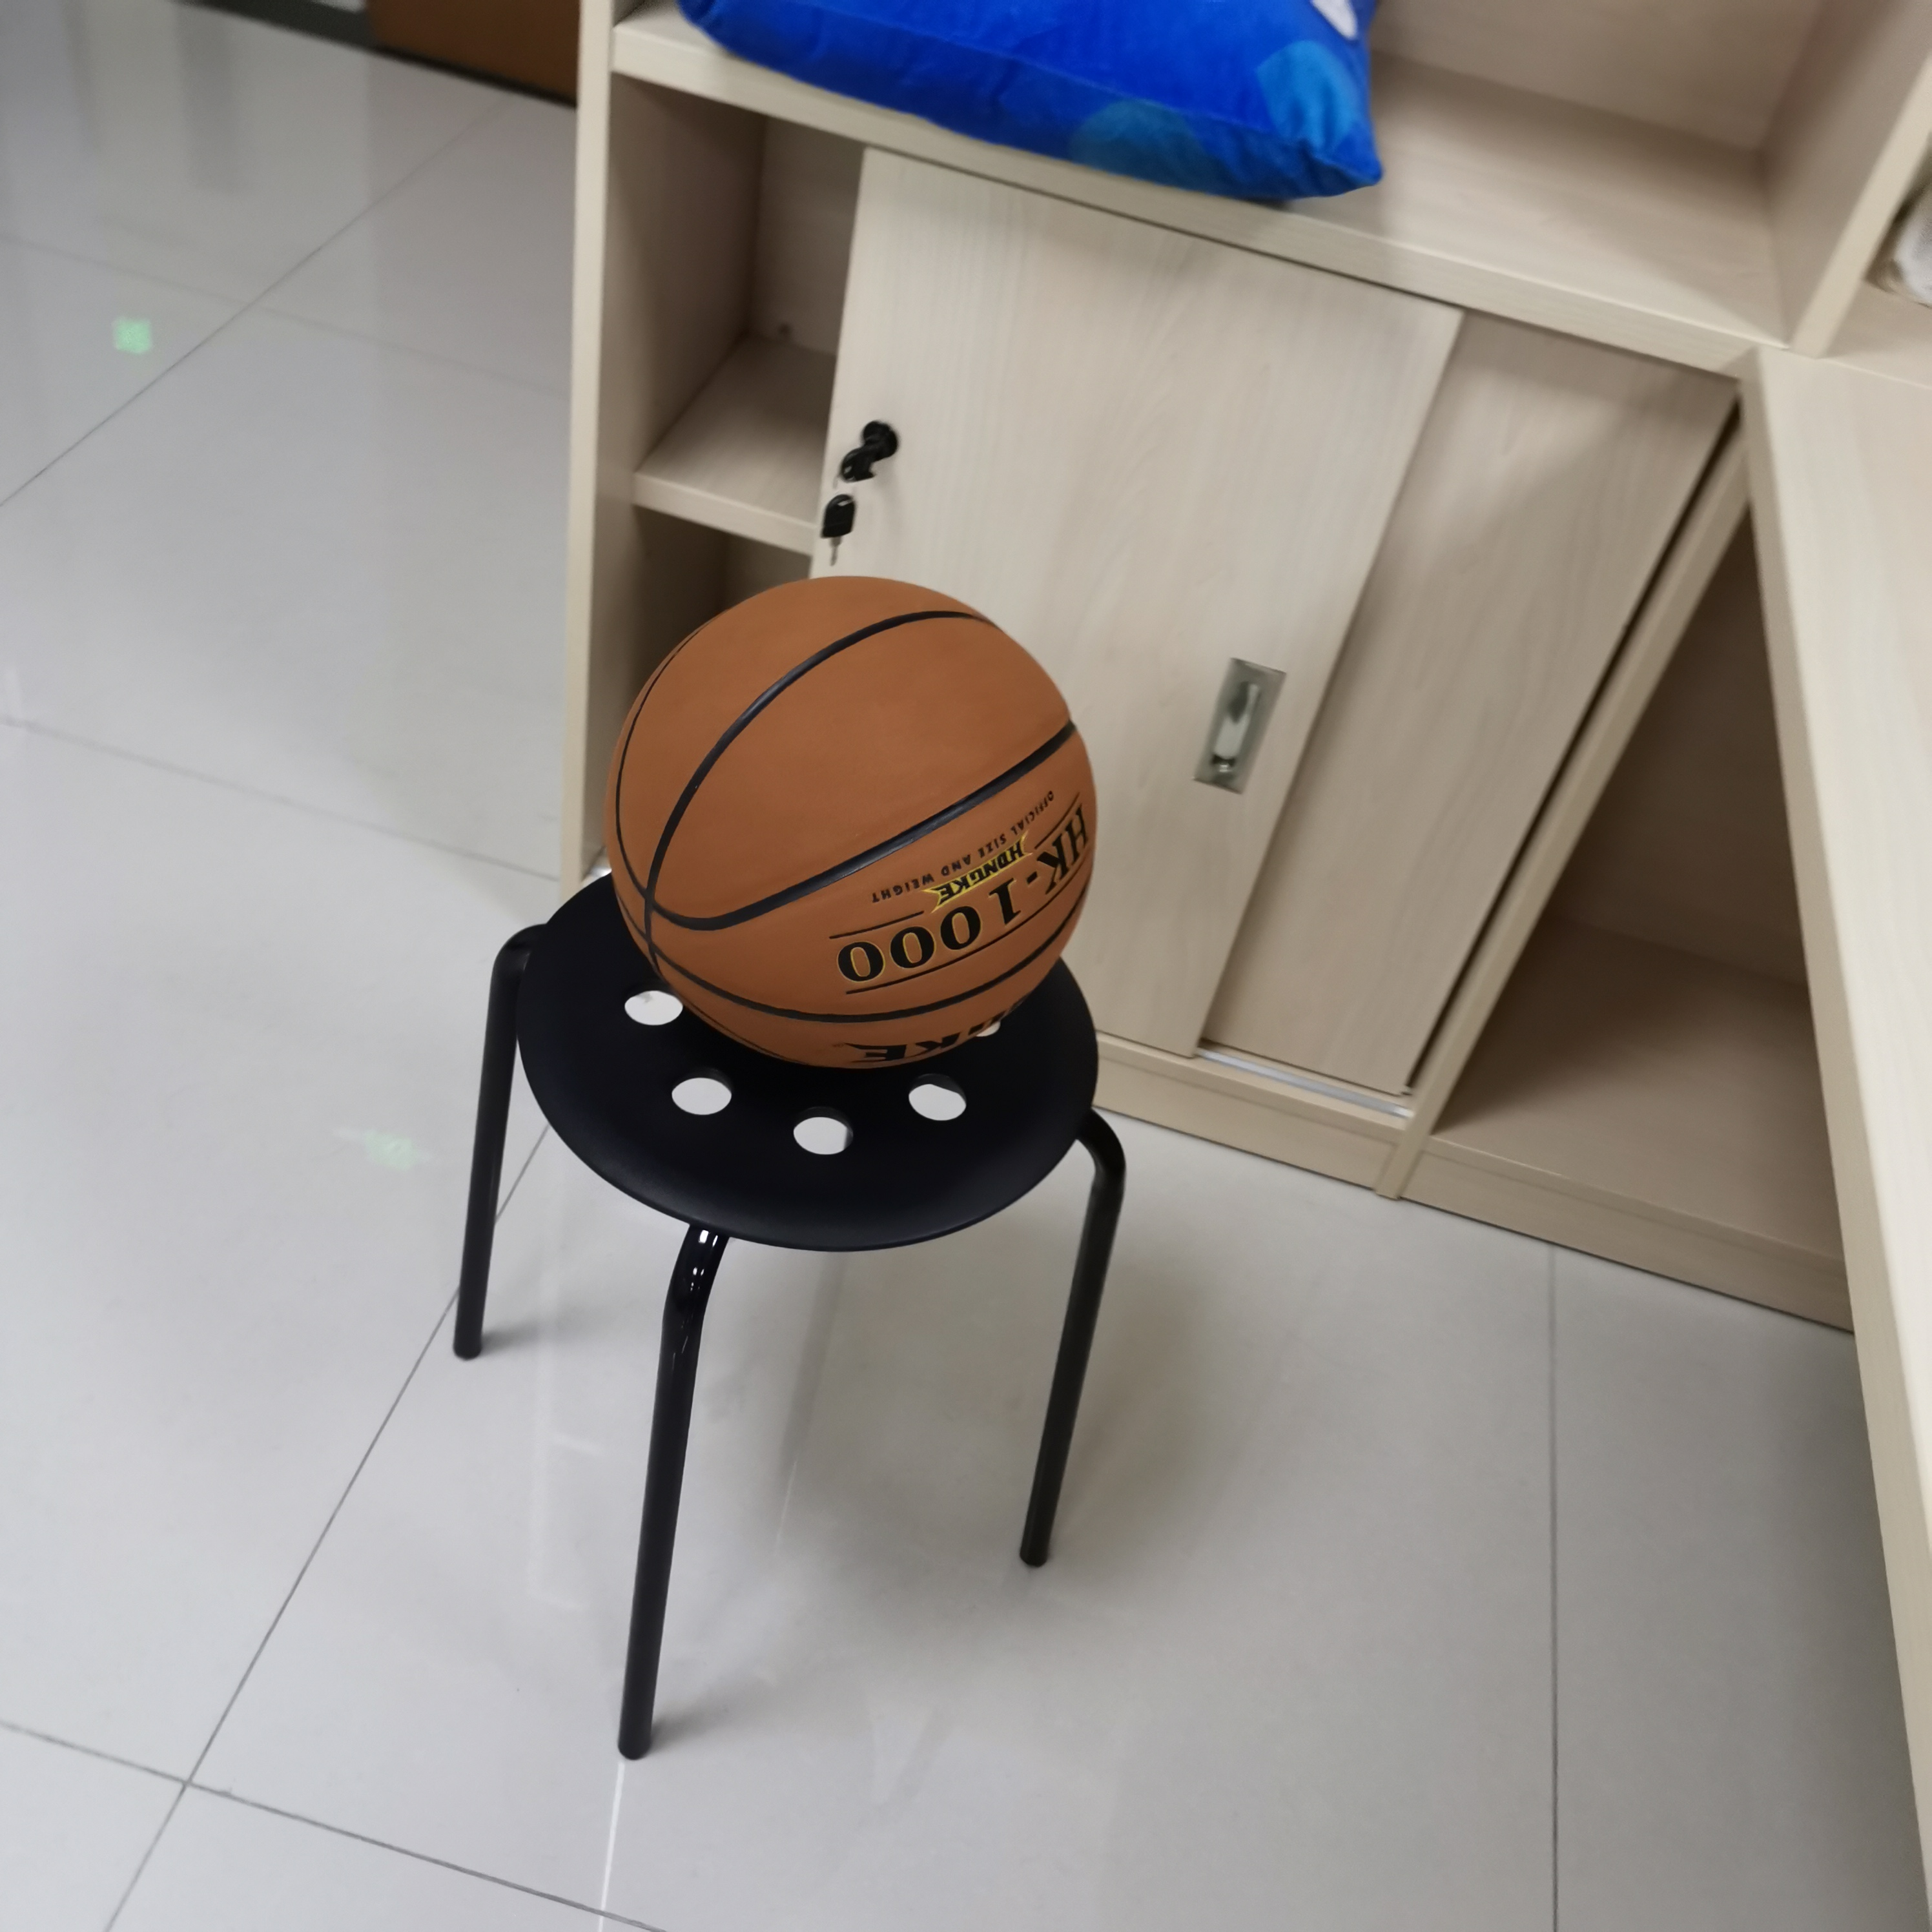basketball: (603, 577, 1097, 1074)
